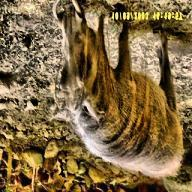boar: (48, 0, 185, 180)
